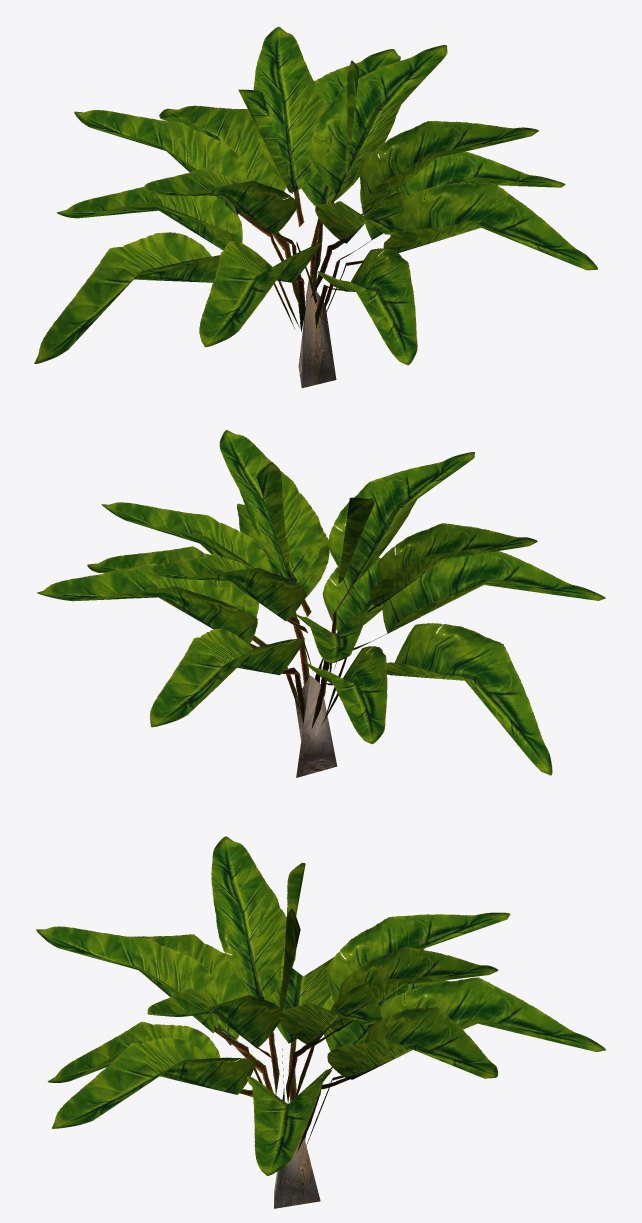
File: elephant.glb
3 views of the same model, one above another, from view 1: azimuth 30°, elevation 25°; view 2: azimuth 150°, elevation 25°; view 3: azimuth 270°, elevation 25° (orthographic). The views are drawn at different scales.
Visible parts, largest first — view 1: elephant; view 2: elephant; view 3: elephant.
Part boxes in pixels (<box>): elephant: <box>34,26,597,388</box>; elephant: <box>37,430,605,777</box>; elephant: <box>36,836,605,1208</box>.
Size of the model in its own units: 4.24 by 2.4 by 4.1.
2 materials, 2 textured.
